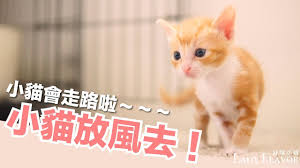cat: (151, 5, 250, 80)
